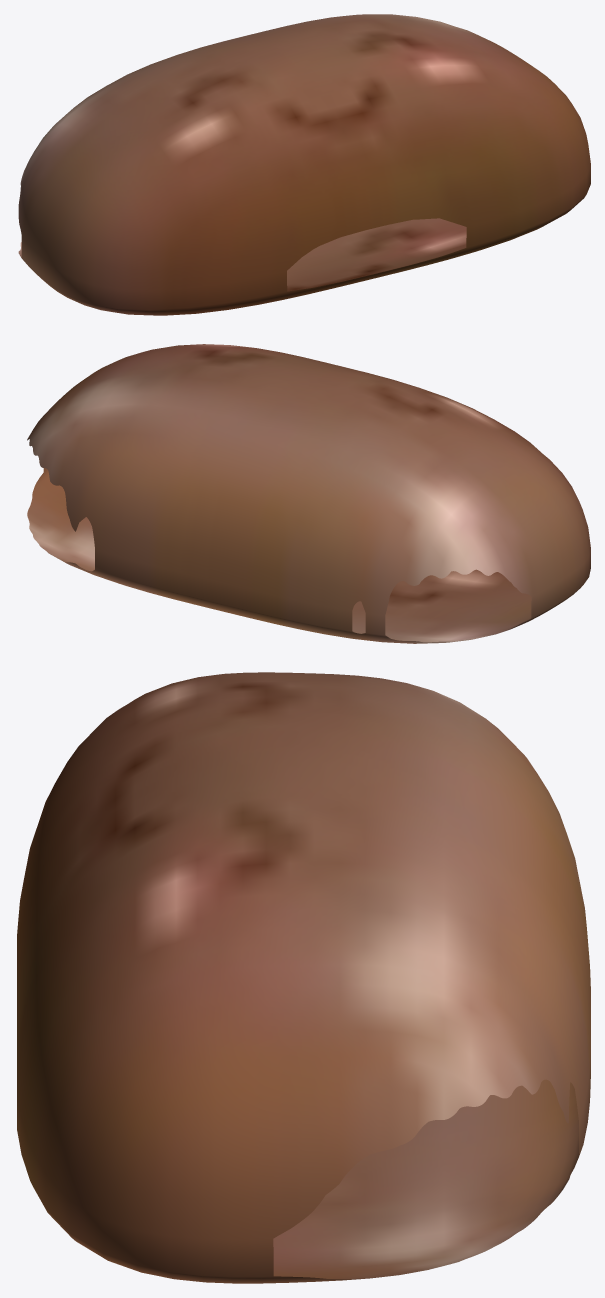
Rendered from T04_Brown_CalmWide.fbx.
3 views of the same model, one above another, from view 1: azimuth 30°, elevation 25°; view 2: azimuth 150°, elevation 25°; view 3: azimuth 270°, elevation 25° (orthographic). The views are drawn at different scales.
Parts seen in each view (by area): view 1: Catalog_T04_Brown_CalmWide; view 2: Catalog_T04_Brown_CalmWide; view 3: Catalog_T04_Brown_CalmWide.
Part boxes in pixels (x1,y1,x2,y2): Catalog_T04_Brown_CalmWide: (18,14,590,315); Catalog_T04_Brown_CalmWide: (27,344,590,643); Catalog_T04_Brown_CalmWide: (17,672,590,1283).
Bounding box in the file's own units: 1.36 × 0.5191 × 0.7389.
1 material, 1 textured.
